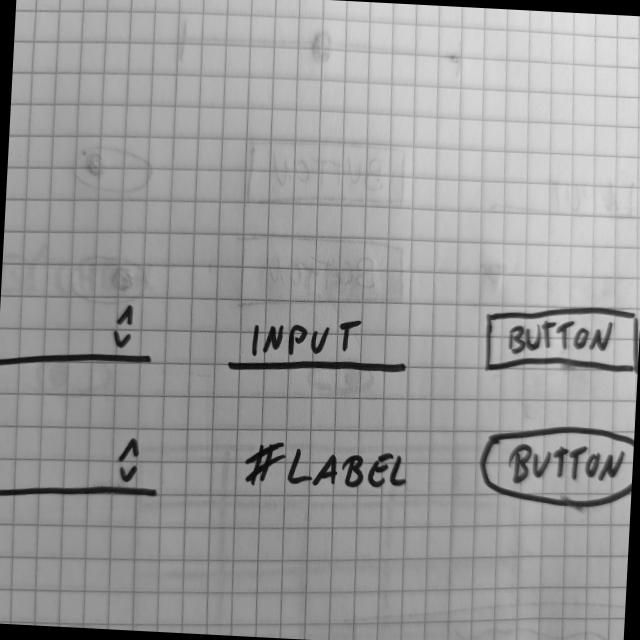button: (475, 421, 636, 515), (481, 299, 640, 381)
input: (227, 306, 414, 385)
label: (240, 434, 412, 500)
number-input: (1, 425, 168, 514), (1, 294, 161, 380)
